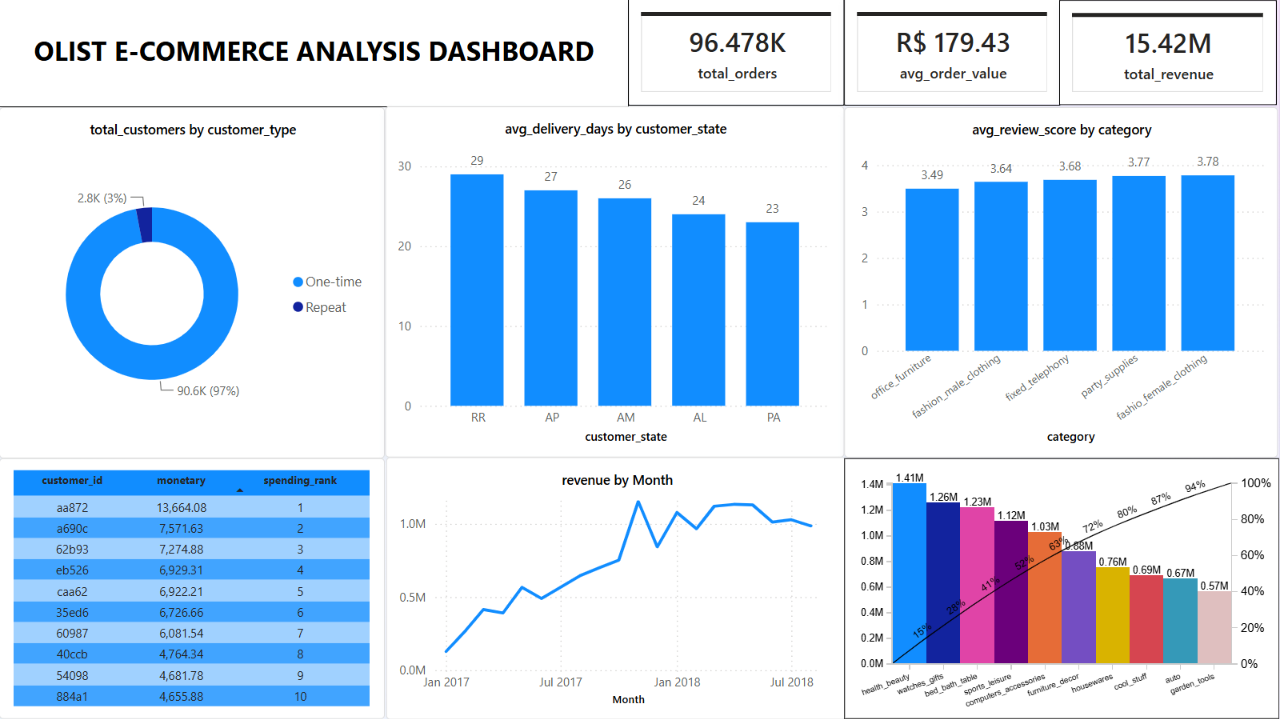

The dashboard page shown, as its layout file describes it:
{"tool":"powerbi","page":{"name":"Page 1","canvas":[1280,720],"ordinal":0},"visuals":[{"type":"textbox","box":[0,0,628.5,107.6],"z":0},{"type":"cardVisual","fields":{"Data":["Sum(vw_business_overview.total_orders)"]},"box":[628.5,0,216.4,106.4],"z":1000},{"type":"cardVisual","fields":{"Data":["Sum(vw_business_overview.avg_order_value)"]},"box":[845,0,216.4,106.4],"z":2000},{"type":"cardVisual","fields":{"Data":["Sum(vw_business_overview.total_revenue)"]},"box":[1060.2,1.2,216.4,105.2],"z":3000},{"type":"donutChart","fields":{"Category":["vw_customer_repeat_rate.customer_type"],"Y":["Sum(vw_customer_repeat_rate.total_customers)"]},"box":[0,107.6,385.2,351],"z":4000},{"type":"tableEx","fields":{"Values":["vw_customer_ranking.customer_id","Sum(vw_customer_ranking.monetary)","Sum(vw_customer_ranking.spending_rank)"]},"box":[0,458.6,385.2,261.7],"z":5000},{"type":"clusteredColumnChart","fields":{"Category":["vw_delivery_by_state.customer_state"],"Y":["Sum(vw_delivery_by_state.avg_delivery_days)"]},"box":[385.6,107,459.7,351.3],"z":6000},{"type":"clusteredColumnChart","fields":{"Category":["vw_review_by_category.category"],"Y":["Sum(vw_review_by_category.avg_review_score)"]},"box":[845.3,108.4,432.2,349.9],"z":7000},{"type":"lineChart","title":"revenue by Month ","fields":{"Y":["Sum(vw_monthly_revenue.revenue)"],"Category":["vw_monthly_revenue.order month.Variation.Date Hierarchy.Year","vw_monthly_revenue.order month.Variation.Date Hierarchy.Quarter","vw_monthly_revenue.order month.Variation.Date Hierarchy.Month","vw_monthly_revenue.order month.Variation.Date Hierarchy.Day"]},"box":[387,458.3,459.7,262.1],"z":8000},{"type":"paretoEDD8E69761BA4B7BB3AA6D813990D7BF","title":"Revenue by Month ","fields":{"categories":["vw_category_revenue.category"],"values":["Sum(vw_category_revenue.total_revenue)"]},"box":[845,458.6,435.3,261.7],"z":9000}]}

Visuals, with their boxes in screenshot pixels (x1, y1, x2, y2), scaled from the page's 1280x720 canvas onto the 1280x719 screenshot:
textbox: <box>0,0,628,107</box>
cardVisual - Sum(vw_business_overview.total_orders): <box>628,0,845,106</box>
cardVisual - Sum(vw_business_overview.avg_order_value): <box>845,0,1061,106</box>
cardVisual - Sum(vw_business_overview.total_revenue): <box>1060,1,1277,106</box>
donutChart - vw_customer_repeat_rate.customer_type x Sum(vw_customer_repeat_rate.total_customers): <box>0,107,385,458</box>
tableEx - vw_customer_ranking.customer_id x Sum(vw_customer_ranking.monetary): <box>0,458,385,718</box>
clusteredColumnChart - vw_delivery_by_state.customer_state x Sum(vw_delivery_by_state.avg_delivery_days): <box>386,107,845,458</box>
clusteredColumnChart - vw_review_by_category.category x Sum(vw_review_by_category.avg_review_score): <box>845,108,1278,458</box>
"revenue by Month " lineChart: <box>387,458,847,718</box>
"Revenue by Month " paretoEDD8E69761BA4B7BB3AA6D813990D7BF: <box>845,458,1279,718</box>
